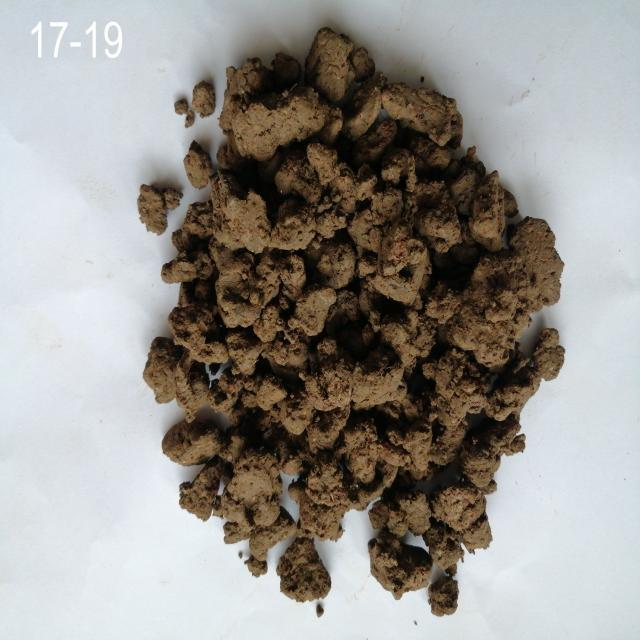soil: (228, 106, 476, 492)
